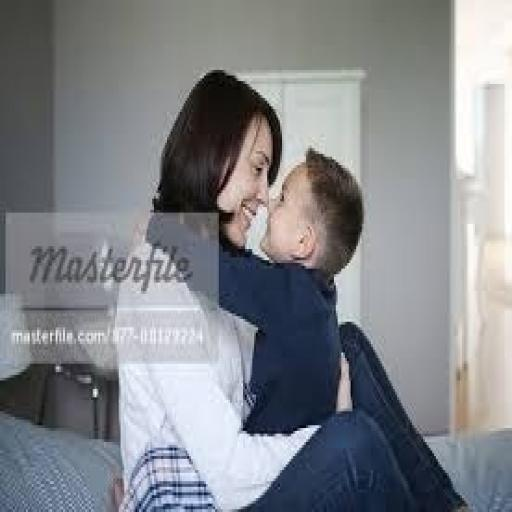hugging: (110, 64, 471, 510)
